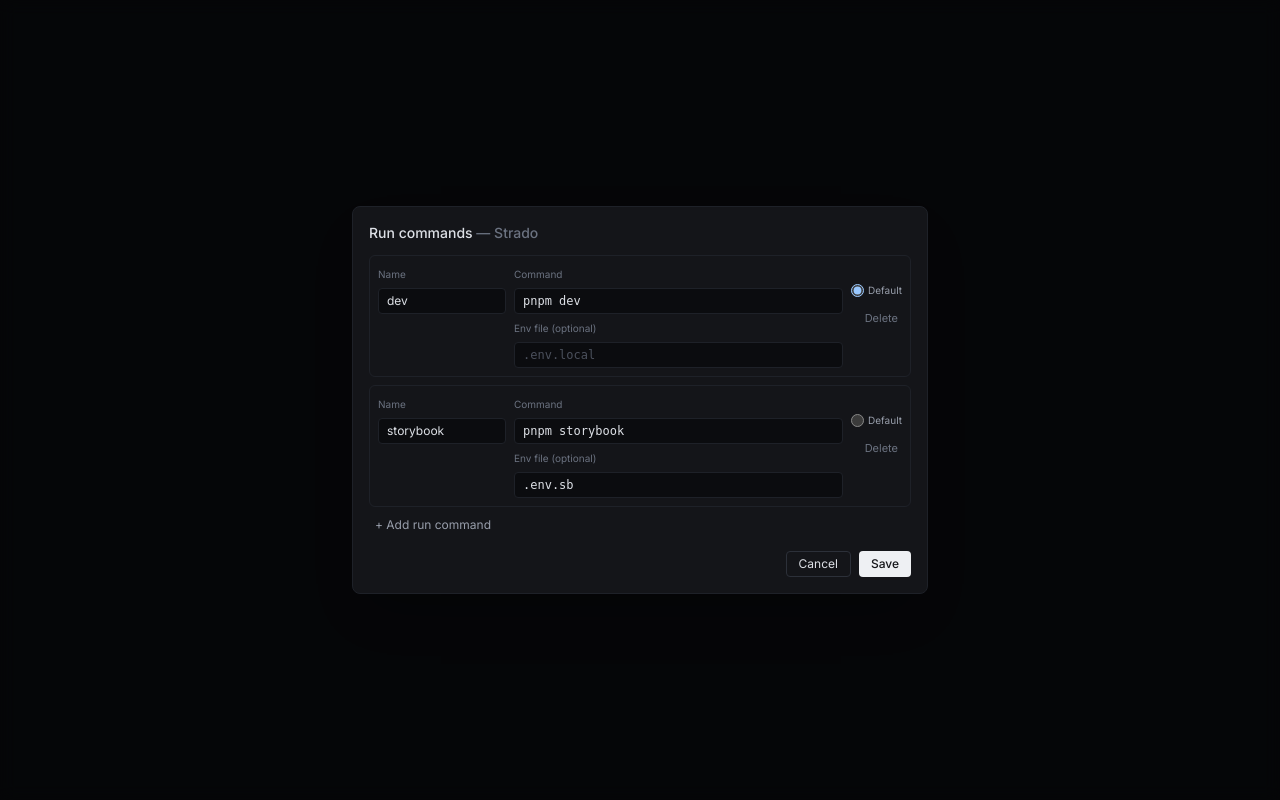
Scenario: RunCommandsDialog: name, command, optional env file; add, rename, delete; pick the default › a failed save says why and stays open
This screenshot has width=1280, height=800.
Click the button "Save": point(885, 564) [859,551,911,577]
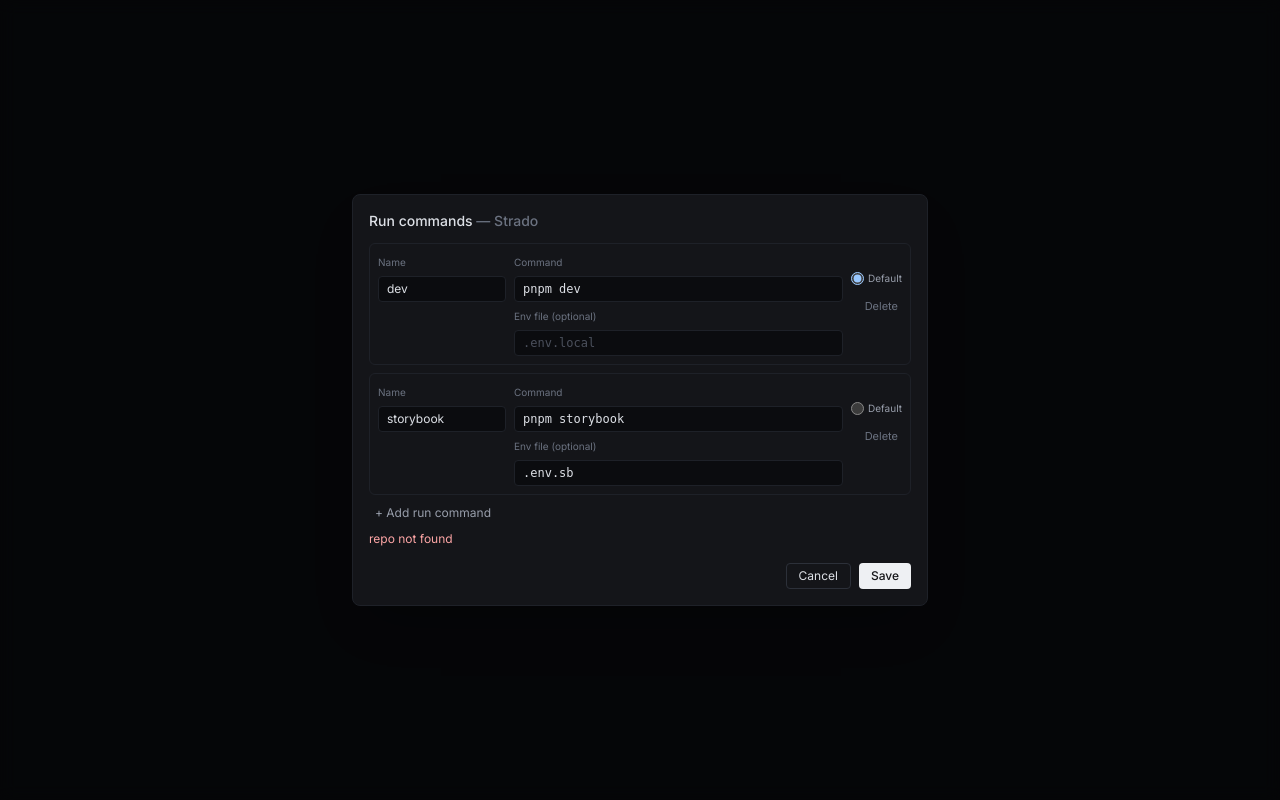
Now the message reads "repo not found", box [369,531,453,546]
